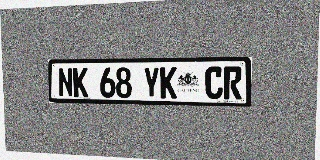6: (100, 67, 116, 98)
8: (116, 67, 132, 98)
C: (205, 66, 223, 99)
K: (160, 67, 177, 99), (73, 68, 88, 97)
N: (58, 68, 73, 97)
R: (223, 66, 242, 99)
Y: (143, 67, 160, 98)
